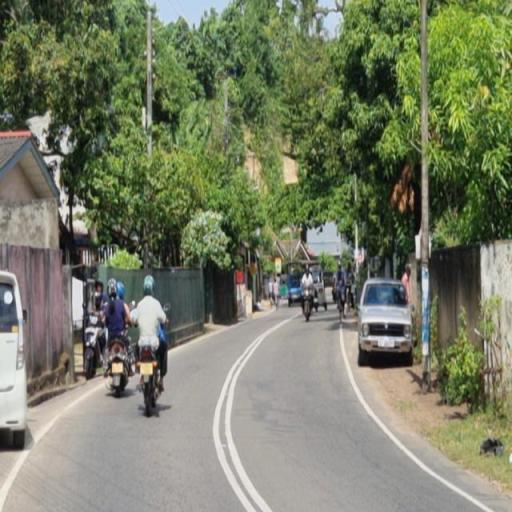double_white_line: (212, 322, 274, 511)
